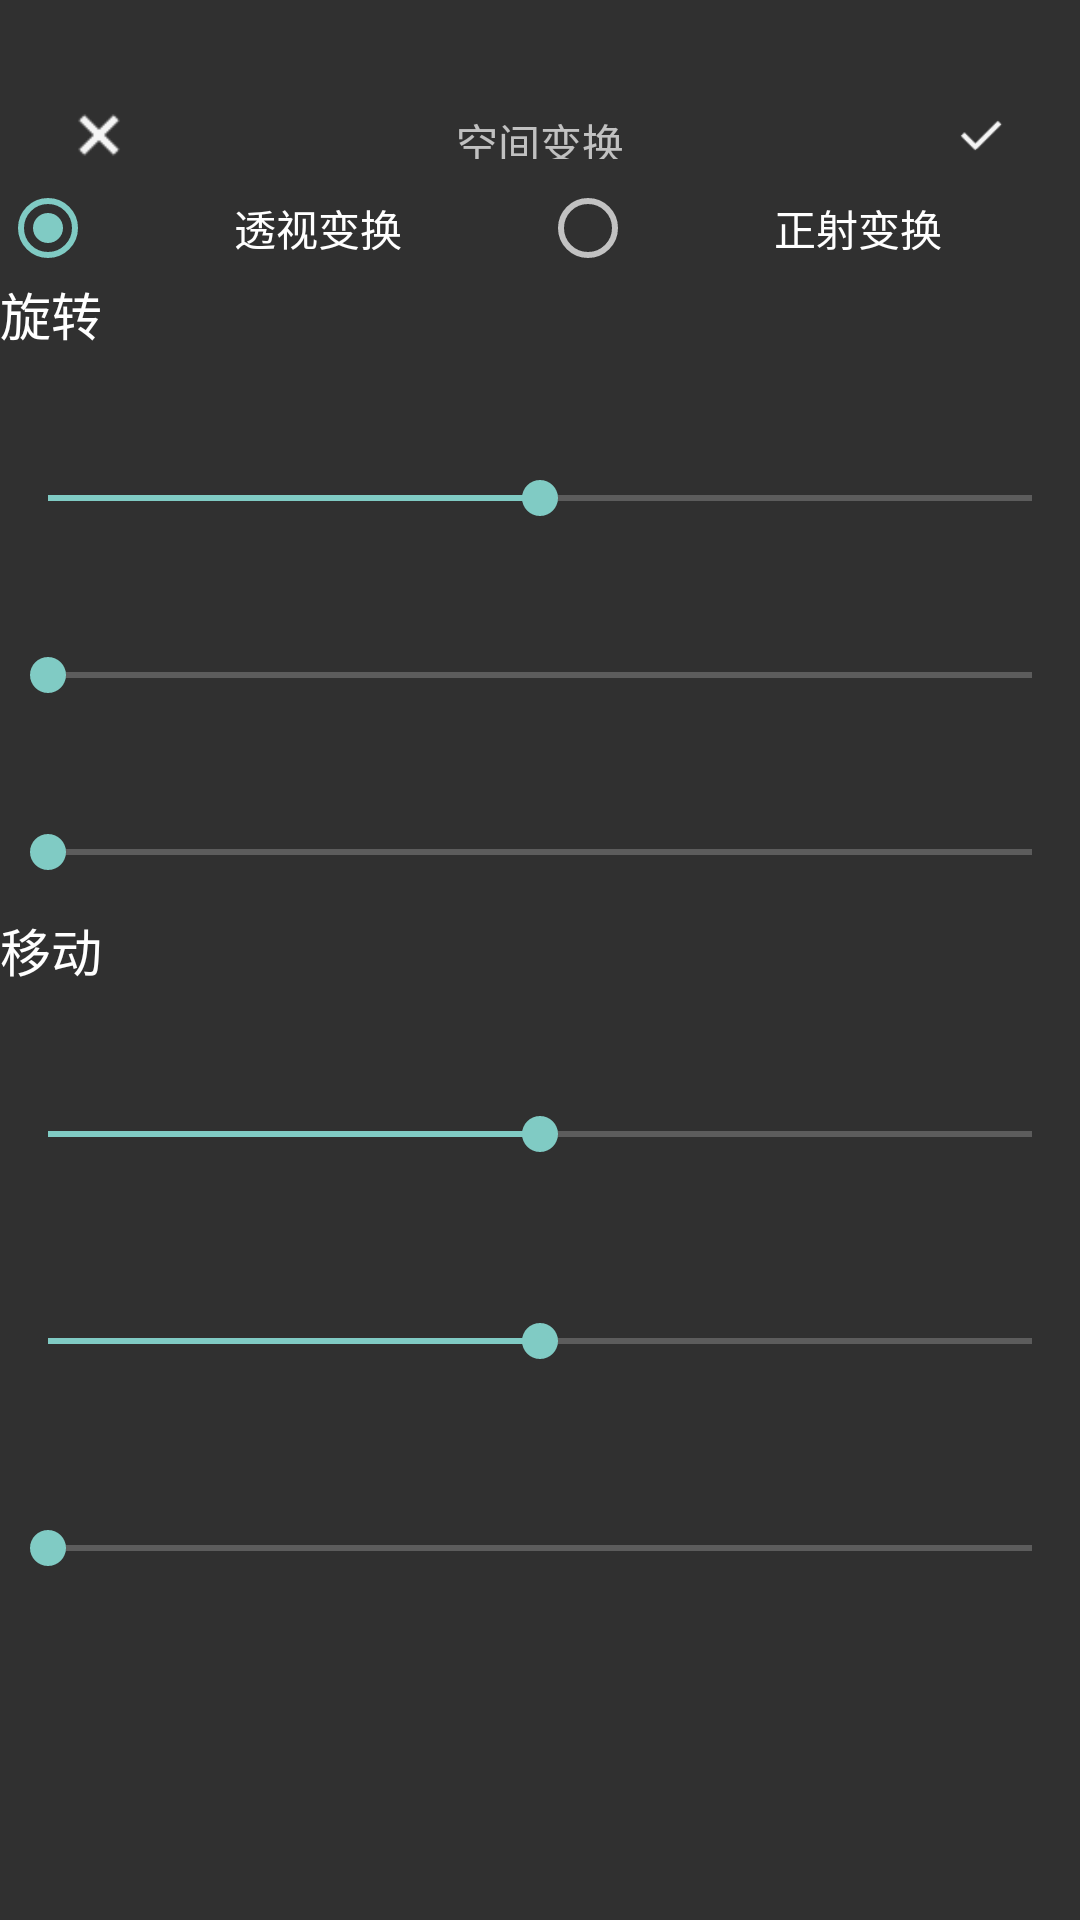

Where icons sit on this 1080w x 1920h app screen, as (x1, y1, x2, y2):
apply: (961, 121, 1002, 150)
cancel: (78, 114, 120, 156)
